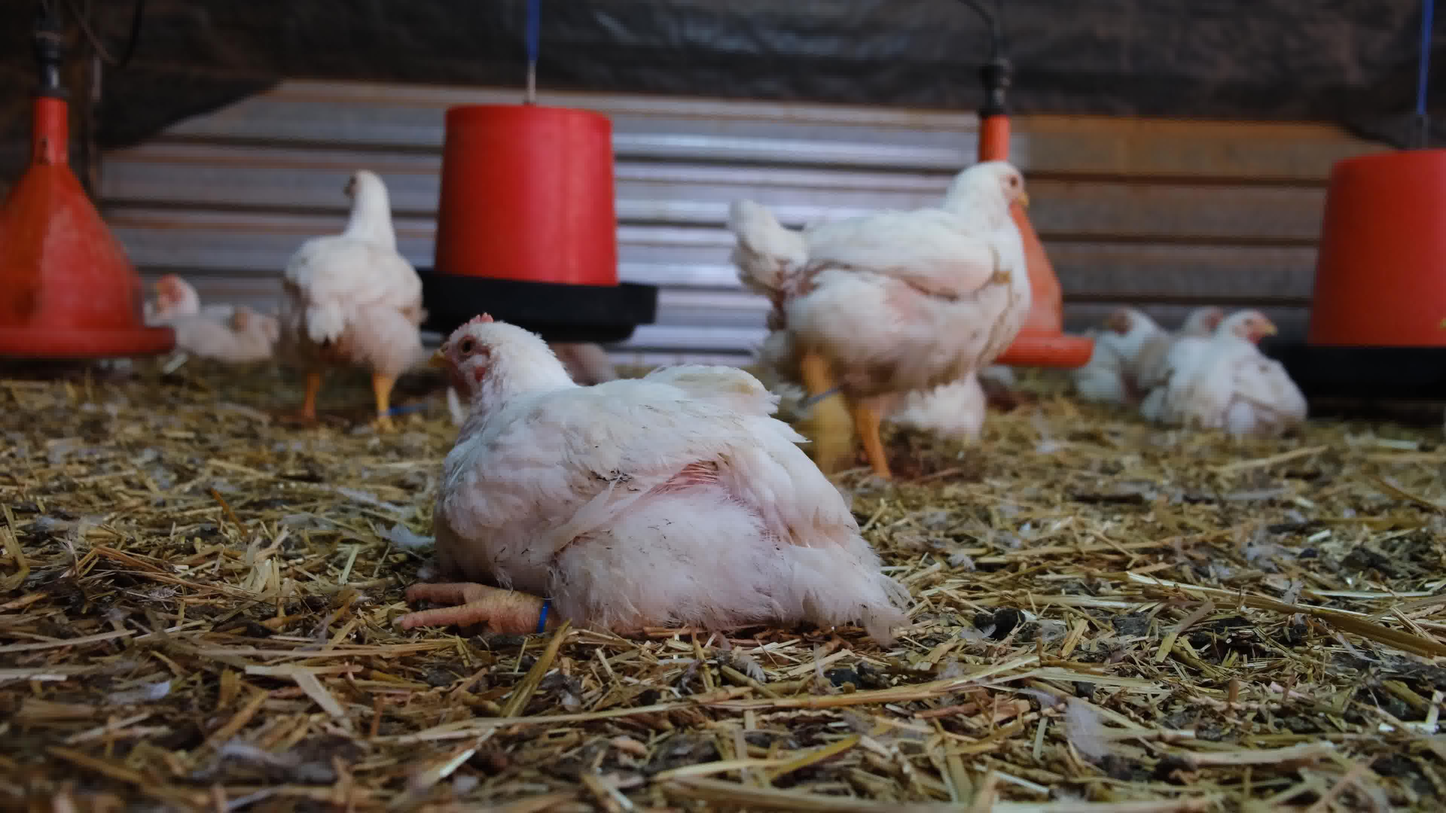AbNormal: (378, 280, 943, 732), (102, 194, 292, 397), (1094, 241, 1226, 444), (1173, 280, 1310, 463)
Normal: (691, 94, 1086, 467), (232, 119, 478, 423)
